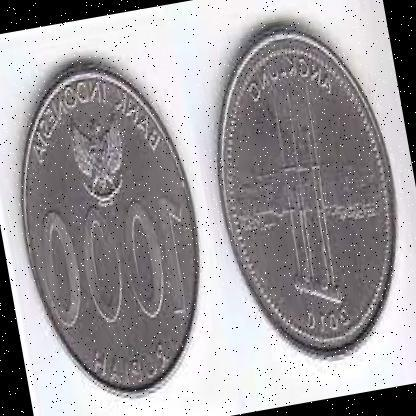coin_1000_e2010: (218, 27, 402, 360), (20, 59, 197, 400)
